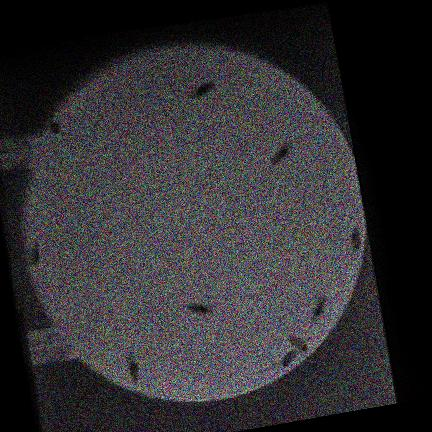fly: (271, 142, 291, 164), (191, 81, 215, 98), (312, 295, 327, 320), (279, 349, 297, 367), (187, 302, 212, 314), (290, 335, 308, 351), (29, 241, 41, 264), (129, 360, 140, 381), (351, 228, 361, 251), (50, 121, 60, 134)
